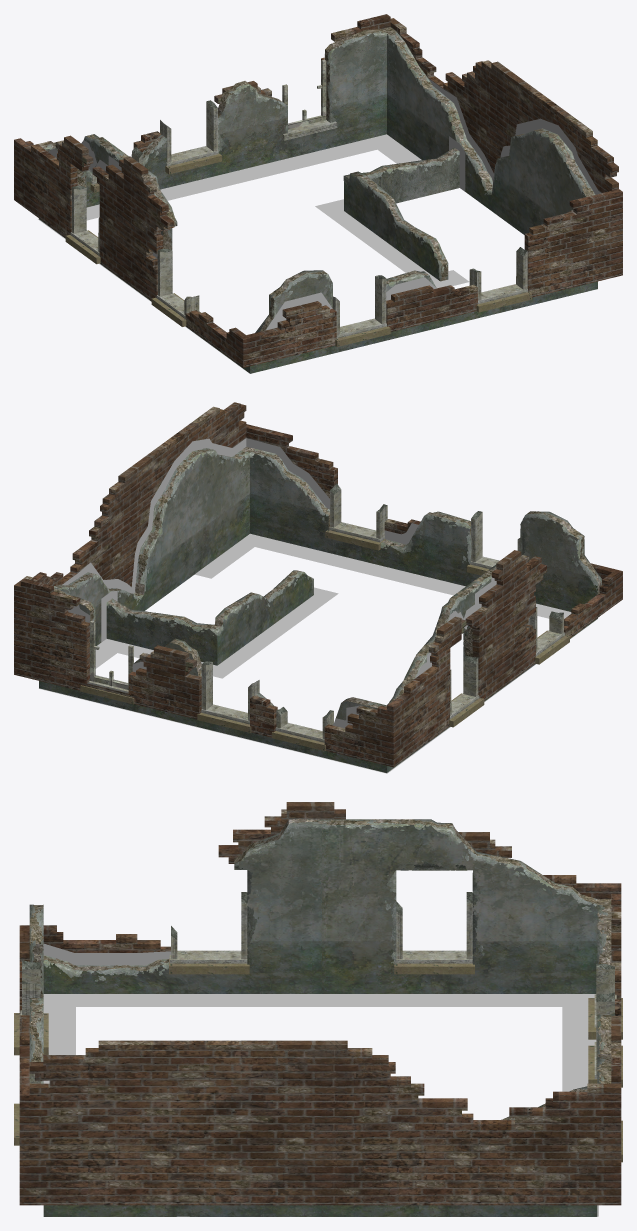
File: OTBuildingDestroyed01Top02.FBX
3 renders of one model, top to bottom at view 1: azimuth 30°, elevation 25°; view 2: azimuth 150°, elevation 25°; view 3: azimuth 270°, elevation 25°, orthographic. The views are drawn at different scales.
Parts seen in each view (by area): view 1: OTBldgDestroy01Top02:0, OTBldgDestroy01Top02:4, OTBldgDestroy01Top02:1, OTBldgDestroy01Top02:5, OTBldgDestroy01Top02:6; view 2: OTBldgDestroy01Top02:0, OTBldgDestroy01Top02:4, OTBldgDestroy01Top02:1, OTBldgDestroy01Top02:5, OTBldgDestroy01Top02:6; view 3: OTBldgDestroy01Top02:0, OTBldgDestroy01Top02:4, OTBldgDestroy01Top02:1, OTBldgDestroy01Top02:5, OTBldgDestroy01Top02:6.
Boxes of the visible parts, x1,y1,x2,y2 form: OTBldgDestroy01Top02:0: [14, 14, 622, 367]; OTBldgDestroy01Top02:4: [39, 33, 597, 373]; OTBldgDestroy01Top02:1: [40, 27, 594, 346]; OTBldgDestroy01Top02:5: [38, 54, 601, 373]; OTBldgDestroy01Top02:6: [43, 31, 595, 332]; OTBldgDestroy01Top02:0: [14, 402, 622, 767]; OTBldgDestroy01Top02:4: [39, 452, 597, 772]; OTBldgDestroy01Top02:1: [54, 447, 601, 750]; OTBldgDestroy01Top02:5: [39, 438, 597, 773]; OTBldgDestroy01Top02:6: [54, 448, 602, 706]; OTBldgDestroy01Top02:0: [19, 802, 621, 1205]; OTBldgDestroy01Top02:4: [43, 825, 597, 1216]; OTBldgDestroy01Top02:1: [14, 819, 622, 1162]; OTBldgDestroy01Top02:5: [43, 858, 598, 1216]; OTBldgDestroy01Top02:6: [29, 819, 608, 1119].
Bounding box in the file's own units: 7.76 × 2.68 × 8.14.
